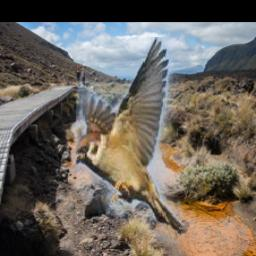Sparrow: (76, 38, 185, 244)
